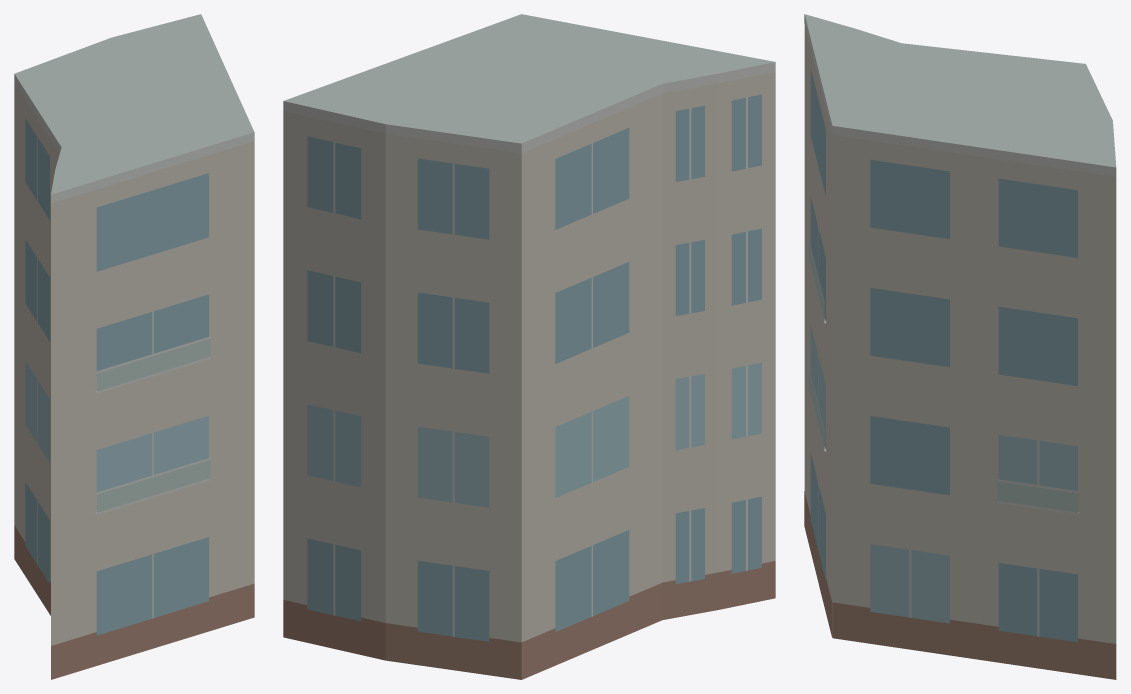
File: survey-upis-32460318.glb
3 renders of one model, left to right at view 1: azimuth 30°, elevation 25°; view 2: azimuth 150°, elevation 25°; view 3: azimuth 270°, elevation 25°, orthographic. The views are drawn at different scales.
Parts seen in each view (by area): view 1: survey-upis-32460318.tmp; view 2: survey-upis-32460318.tmp; view 3: survey-upis-32460318.tmp.
Boxes of the visible parts, bbox=[...] form: survey-upis-32460318.tmp: bbox=[14, 14, 254, 679]; survey-upis-32460318.tmp: bbox=[283, 14, 775, 679]; survey-upis-32460318.tmp: bbox=[804, 14, 1116, 679].
Size of the model in its own units: 8.68 by 13.5 by 7.46.
